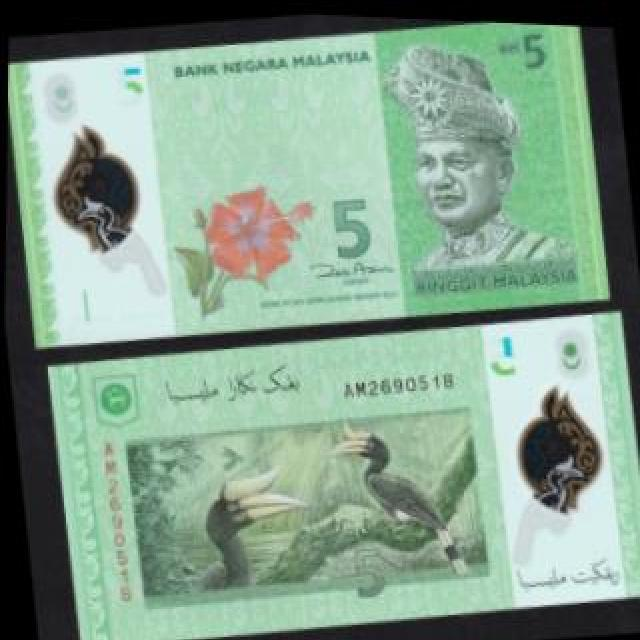5 Ringgit: (4, 1, 614, 366), (50, 284, 640, 640)
